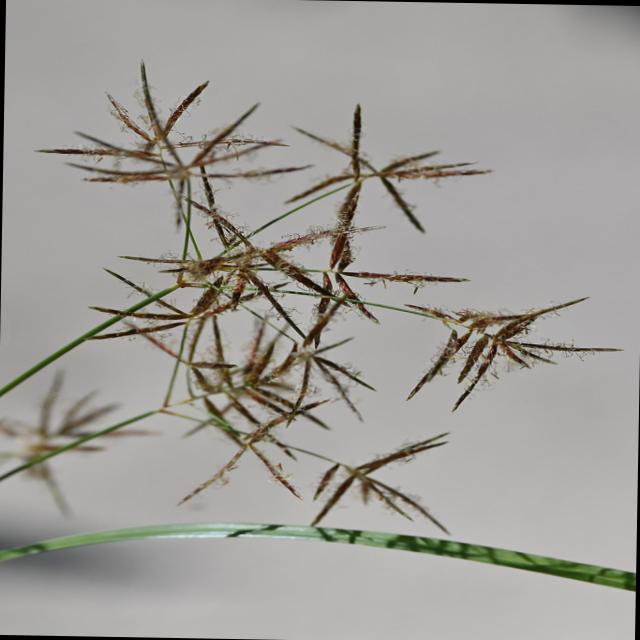cyperus: (45, 55, 627, 542), (0, 368, 139, 498)
